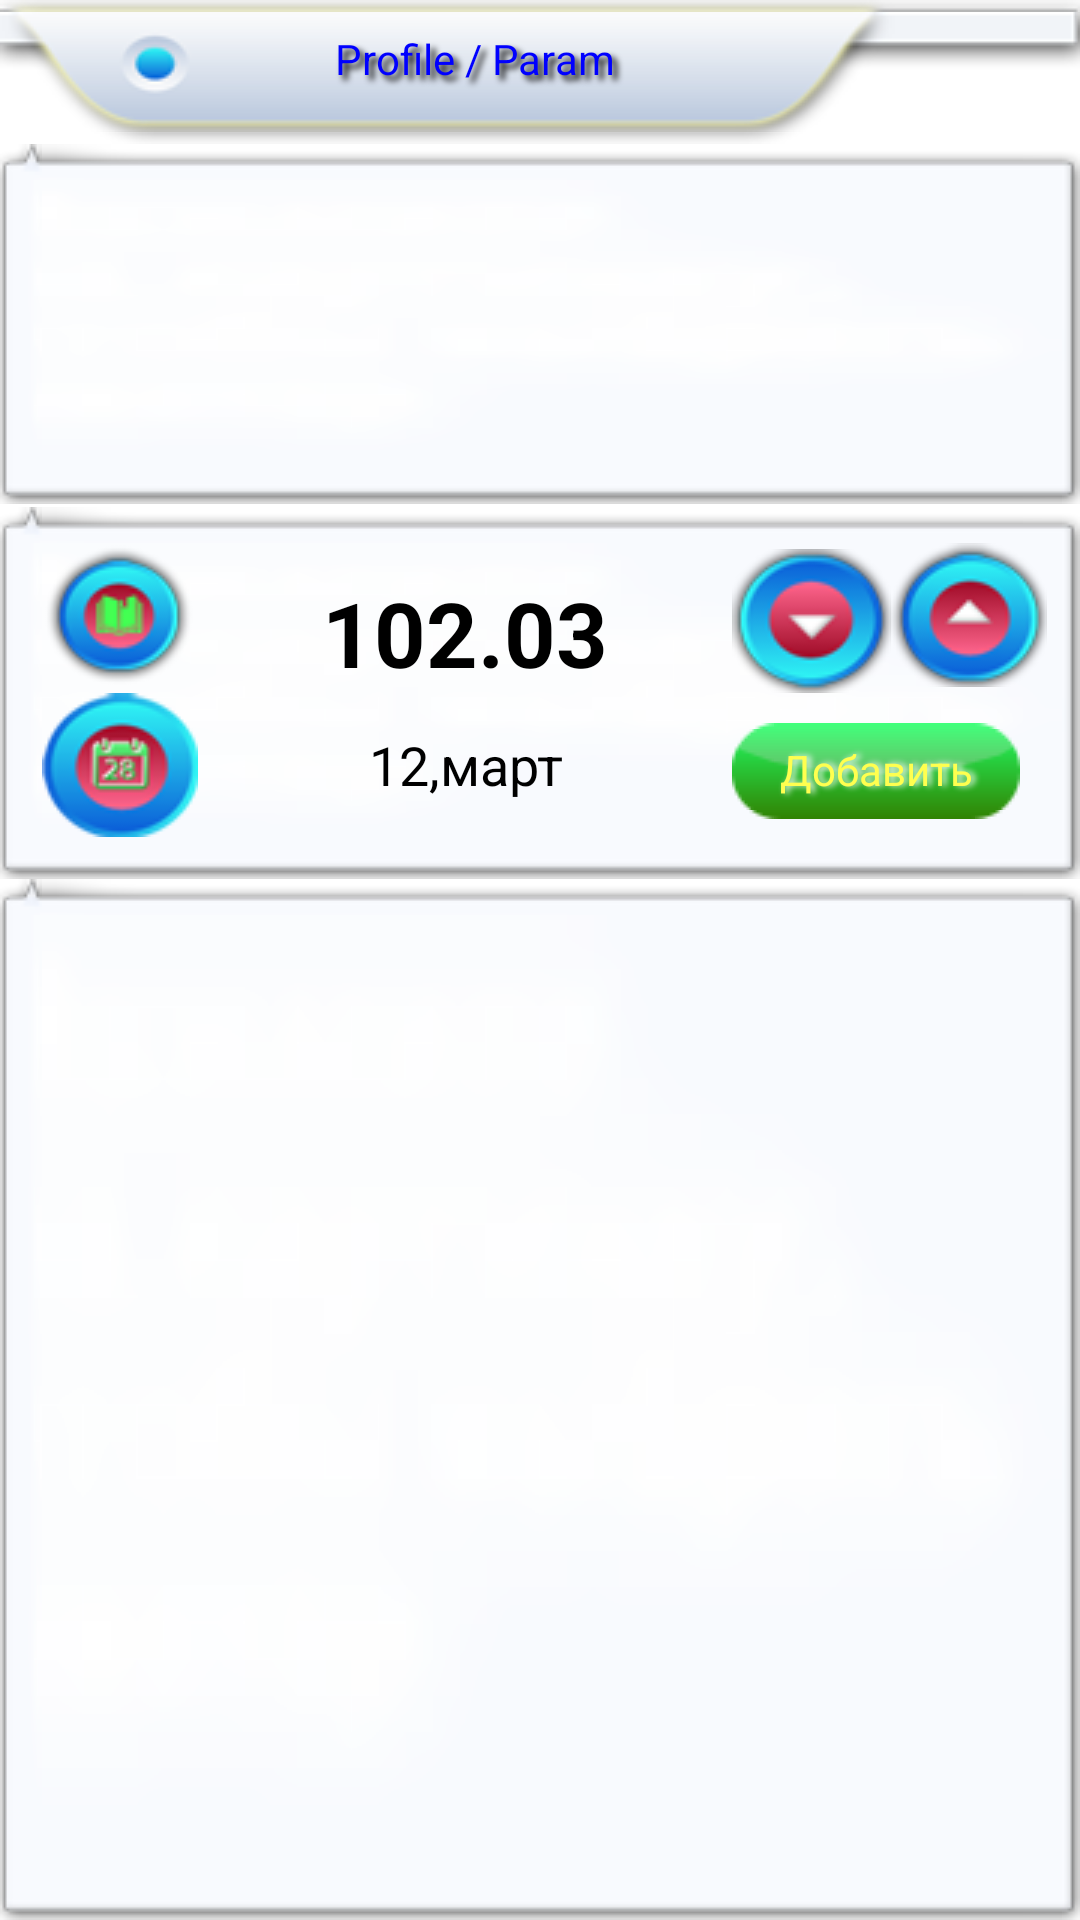

Locate icon controls on the screen. Image size 1080 x 1920, boxes as (x1, y1, x2, y2).
book: (51, 551, 187, 679)
date: (42, 693, 198, 837)
down: (732, 549, 891, 693)
